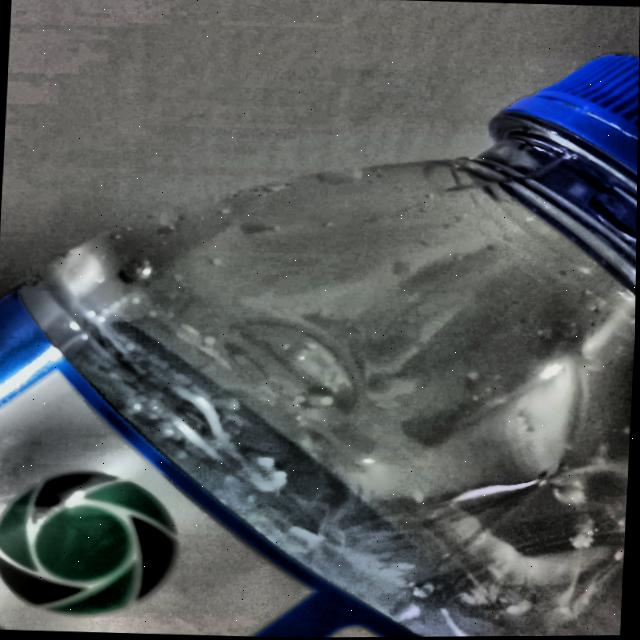plastic: (0, 53, 639, 638)
